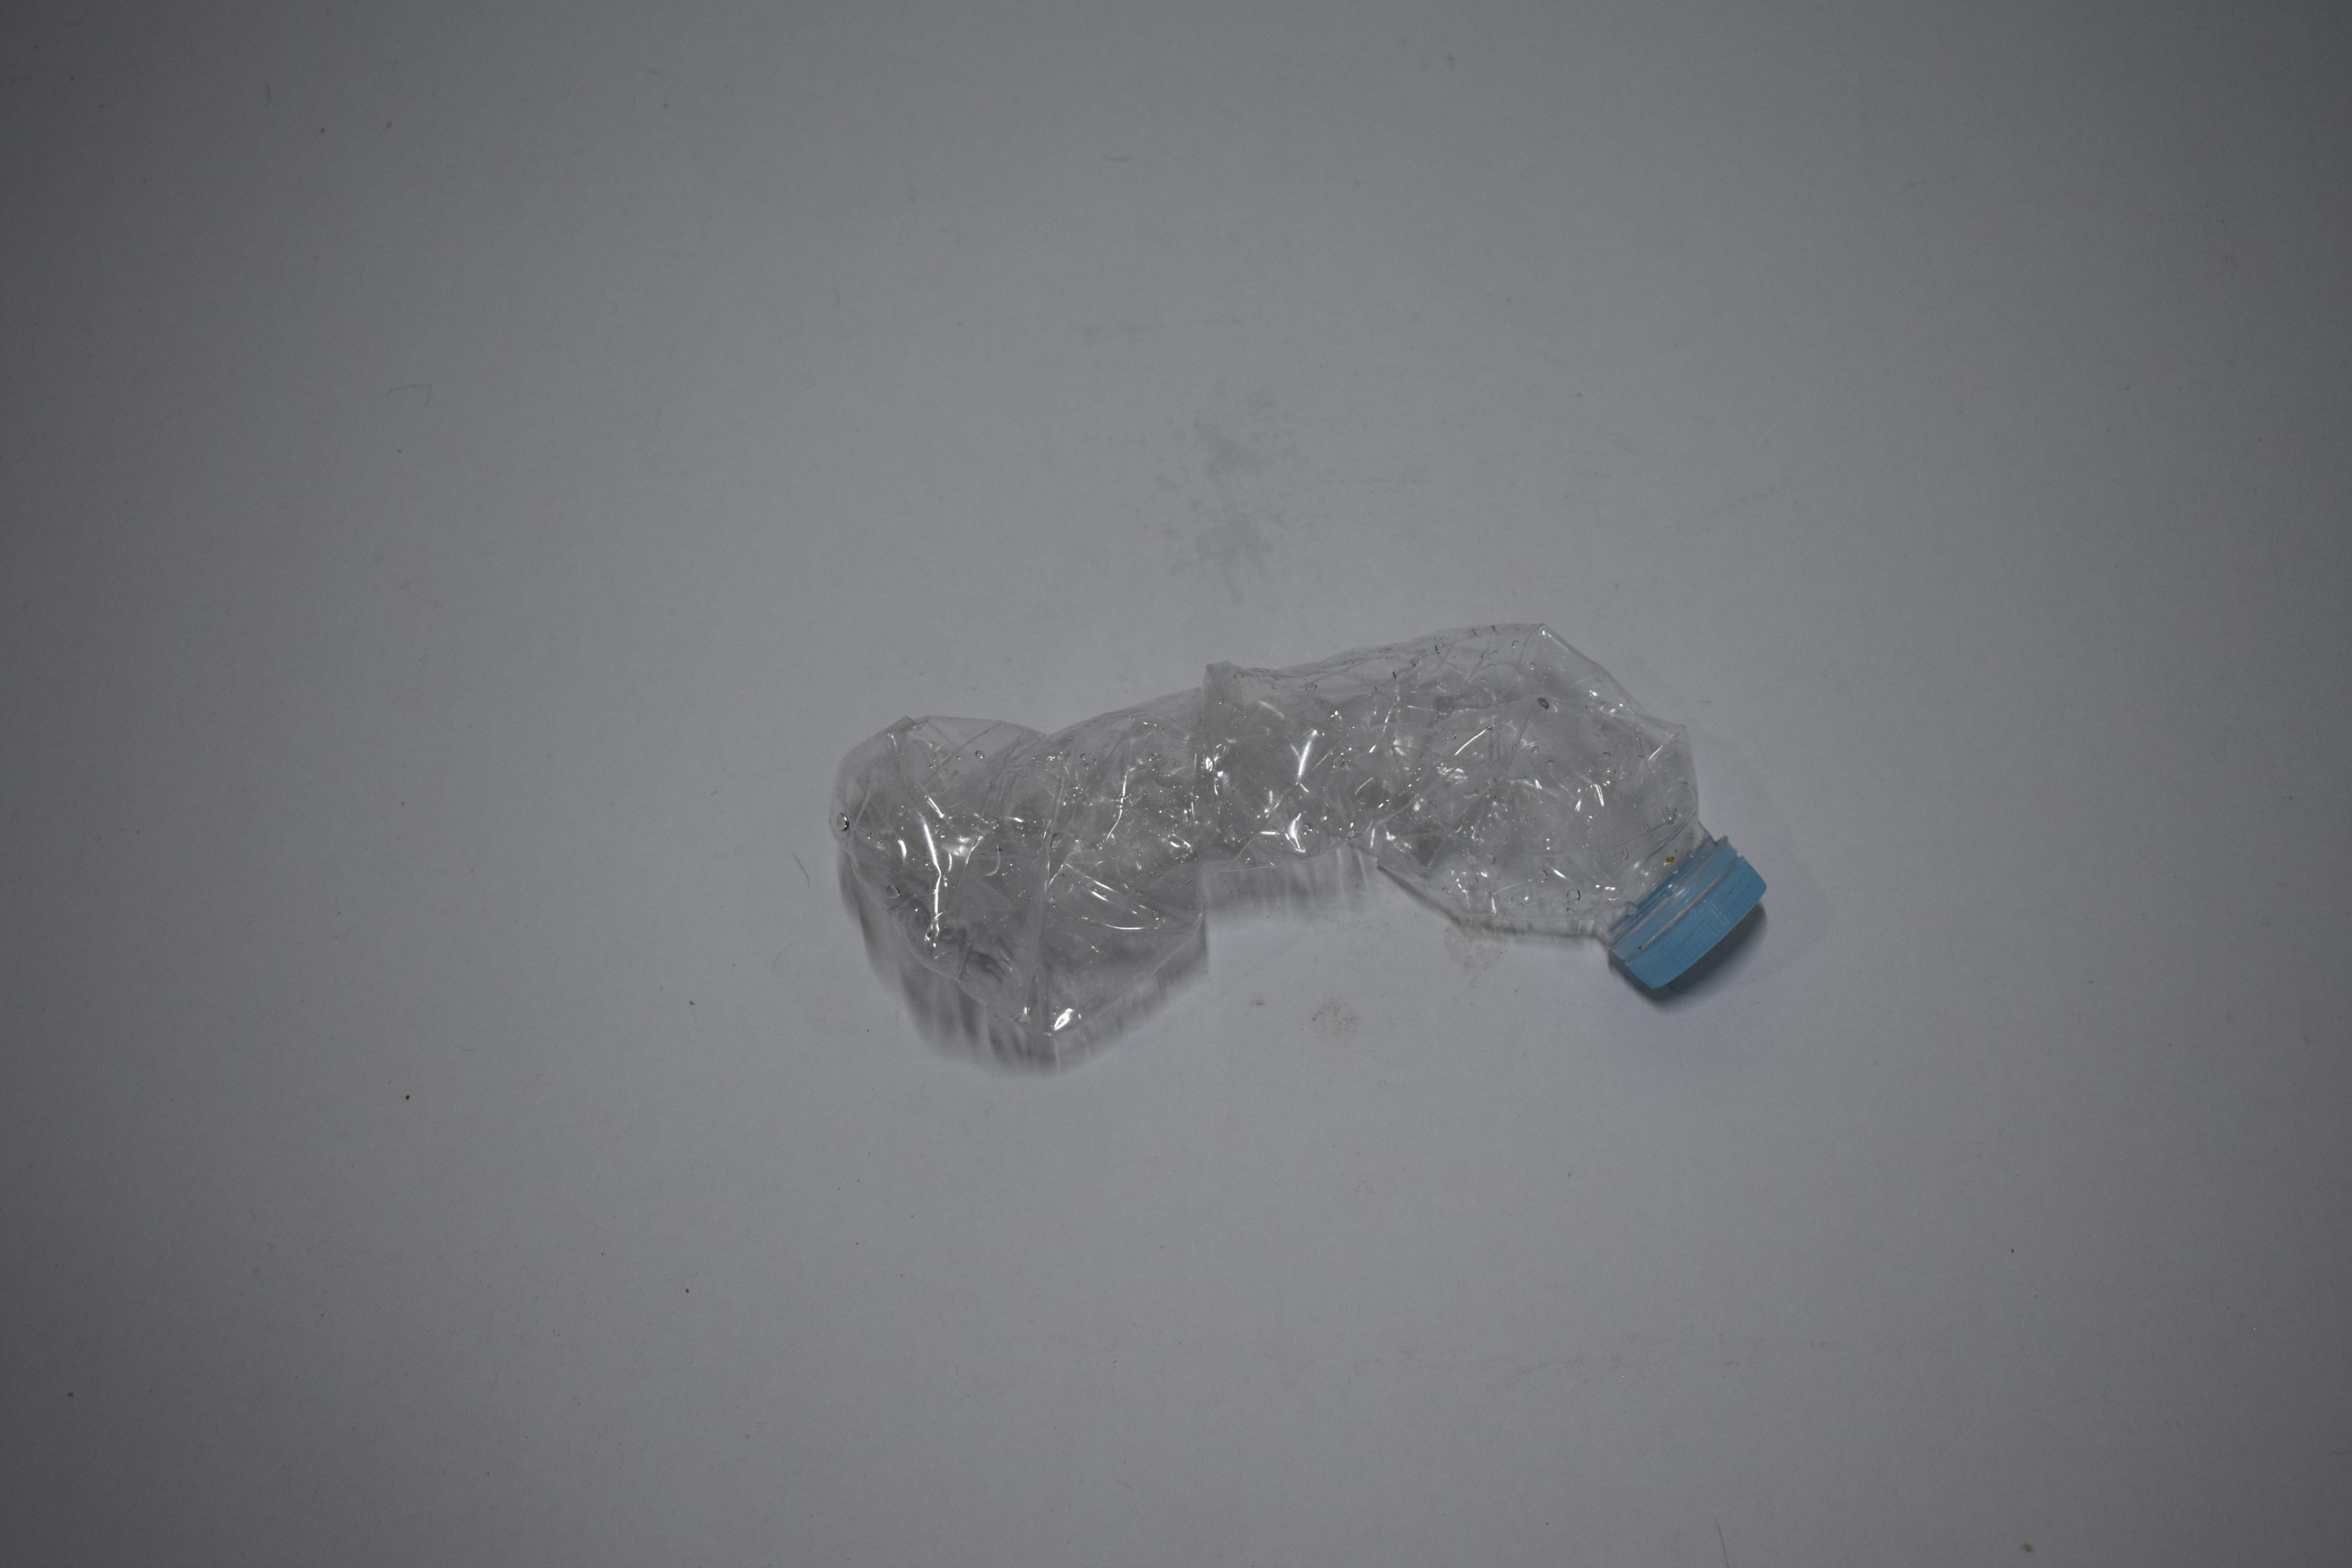bottle: (0, 0, 478, 285)
